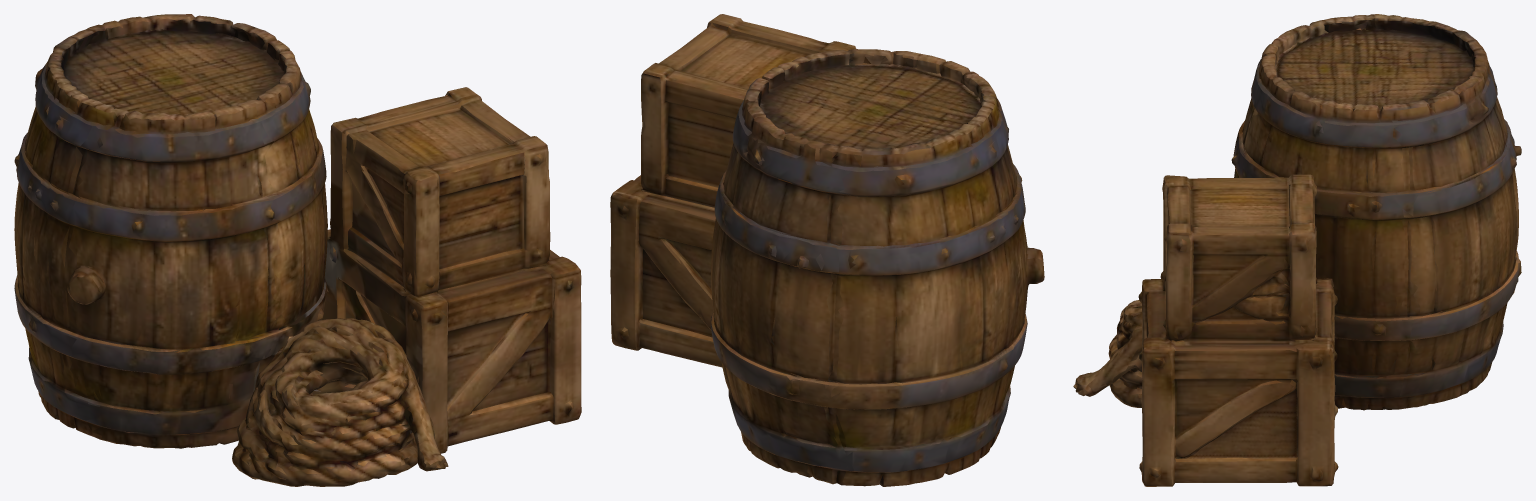
The model's file is barrel-crates.web.glb.
The picture shows the model from 3 angles, left to right: view 1: azimuth 30°, elevation 25°; view 2: azimuth 150°, elevation 25°; view 3: azimuth 270°, elevation 25°; orthographic projection. The views are drawn at different scales.
Visible parts, largest first — view 1: painted; view 2: painted; view 3: painted.
Part boxes in pixels (bbox=[...]): painted: bbox=[14, 14, 581, 486]; painted: bbox=[610, 14, 1044, 486]; painted: bbox=[1073, 14, 1521, 486].
Size of the model in its own units: 1.99 by 1.5 by 1.99.
1 material, 1 textured.
